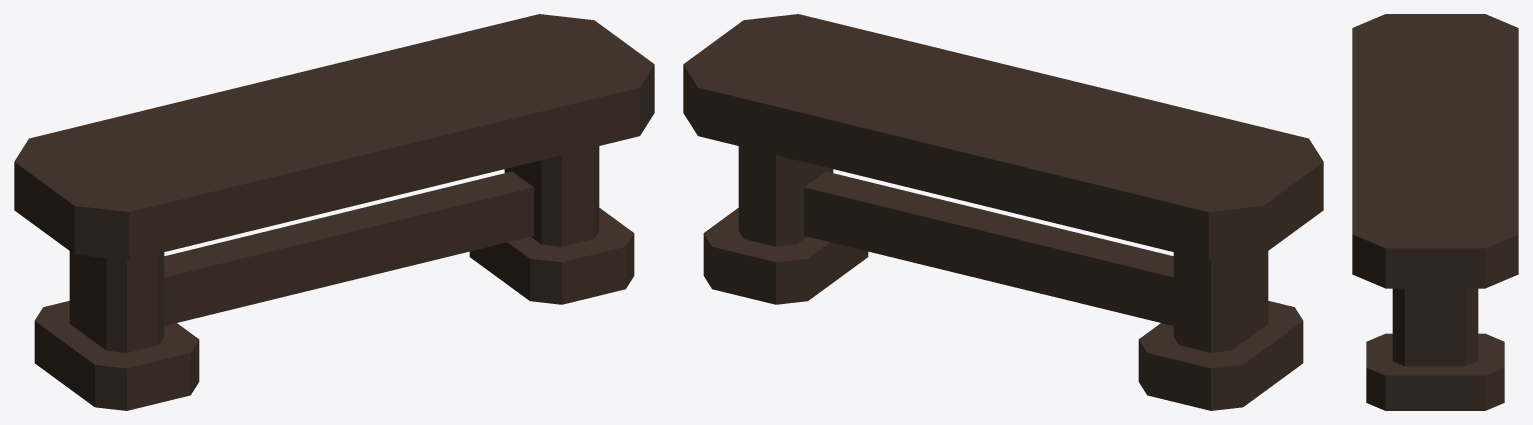
File: bench_2m.glb
3 views of the same model, side by side, from view 1: azimuth 30°, elevation 25°; view 2: azimuth 150°, elevation 25°; view 3: azimuth 270°, elevation 25° (orthographic). The views are drawn at different scales.
Visible parts, largest first — view 1: bench_2m_Static; view 2: bench_2m_Static; view 3: bench_2m_Static.
Boxes of the visible parts, box(x1,y1,x2,y2) form: bench_2m_Static: box(14, 14, 654, 410); bench_2m_Static: box(683, 14, 1323, 410); bench_2m_Static: box(1352, 14, 1518, 410).
Size of the model in its own units: 2 by 0.68 by 0.6.
